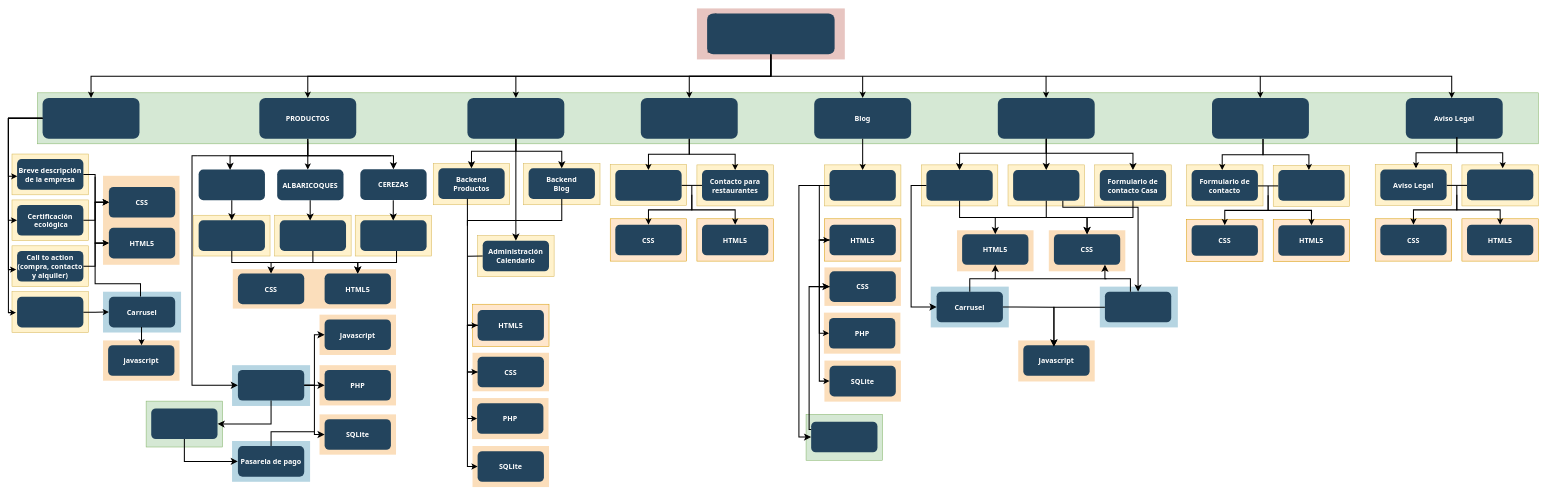
This 1547x495 diagram has some shape labels left out. The centre of each missing label's shape, as x and y in pixels:
Backend ligero: point 515,118
Calendario: point 1138,306
Calendario de disponibilidad: point 1046,185
Carrito de compra: point 271,385
Casa Rural: point 1046,118
Contacto: point 1260,118
Descipción de Albaricoques: point 312,235
Descipción de Nueces: point 231,235
Descripción de cerezas: point 393,235
Descripción detallada: point 959,185
Fotos destacadas: point 50,312
Hierbas Comestibles: point 689,118
Información detallada: point 648,185
INICIO (POR DEFECTO): point 90,118
Mapa con ubicación: point 1311,185
MAPA DE NAVEGACIÓN AGRIVALL: point 770,33
Modulo de compra: point 184,423
Noticia desplegada: point 844,437
NUECES: point 231,184
Política de privacidad y cookies: point 1500,184
Sección de Noticias.: point 862,185
